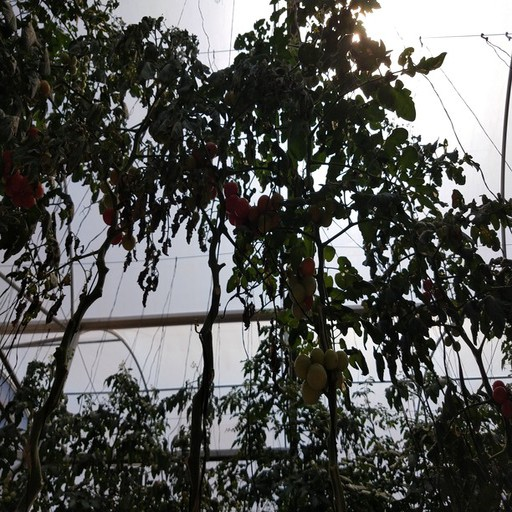green tomato bunch: (295, 347, 347, 402), (58, 48, 89, 91)
mixed tomato bunch: (100, 169, 137, 251), (285, 260, 316, 320)
red tomato bunch: (1, 150, 45, 207), (223, 184, 273, 230), (491, 379, 512, 417)
